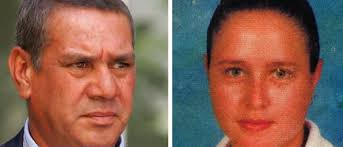No-Glasses: (210, 55, 309, 92), (52, 52, 141, 77)
